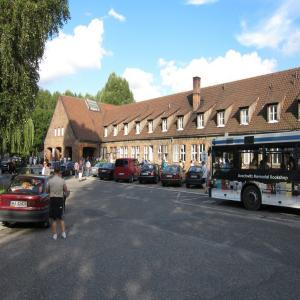Vehicle-registration-plate: (11, 202, 27, 208)
